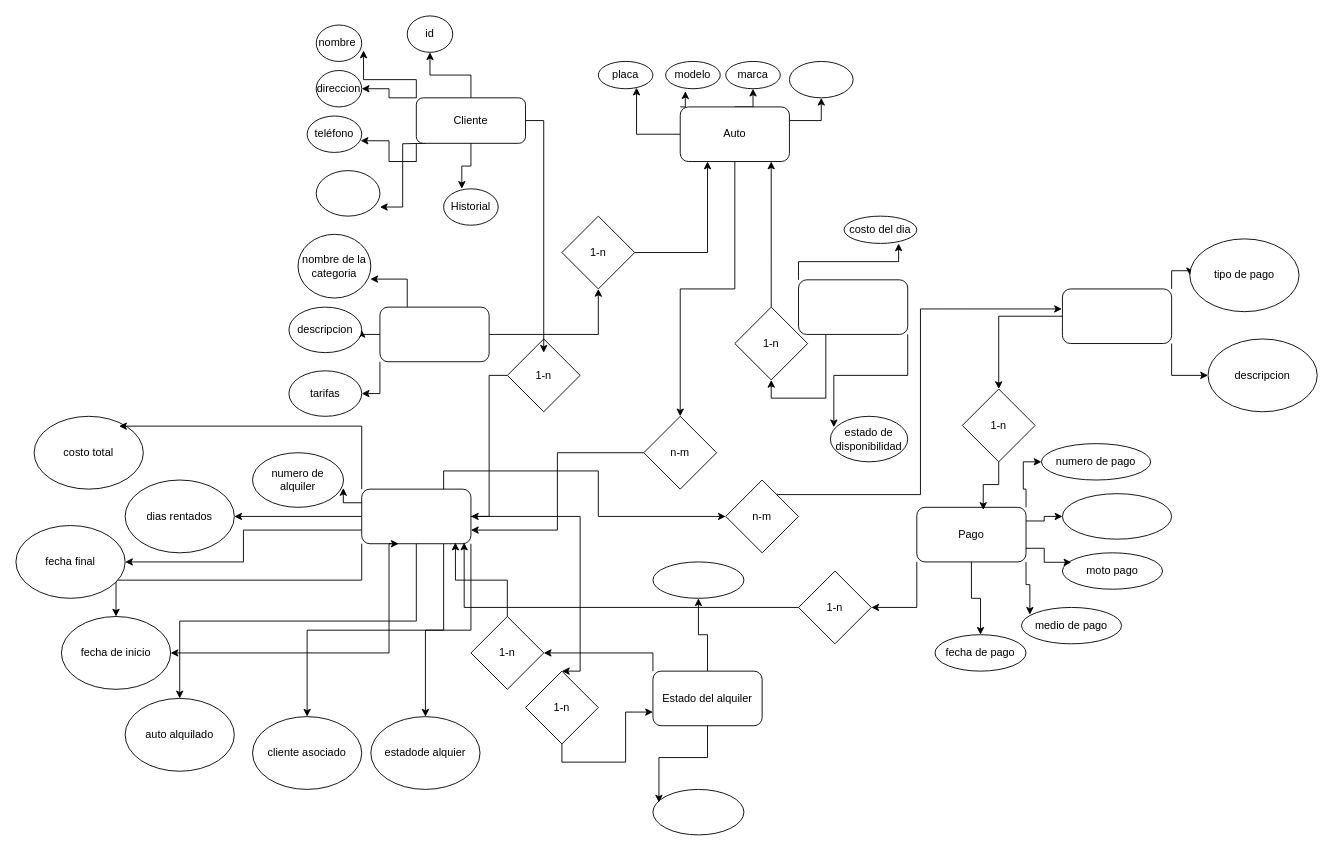
This 1333x851 diagram has some shape labels left out. The shapes that lost their labels are listed below. From the top down, each one's box as (x1, y1, x2, y2) in pixels, then its label:
(789, 61, 853, 98): año
(315, 170, 380, 216): correo electronico
(798, 279, 908, 334): Categoría
(1062, 288, 1172, 344): Medios de pago
(379, 306, 489, 362): Categoría Auto
(361, 488, 471, 544): Alquiler
(1062, 493, 1172, 539): Alquiler asociado
(652, 561, 744, 598): descriptpcion
(652, 789, 744, 835): tipo de estado
